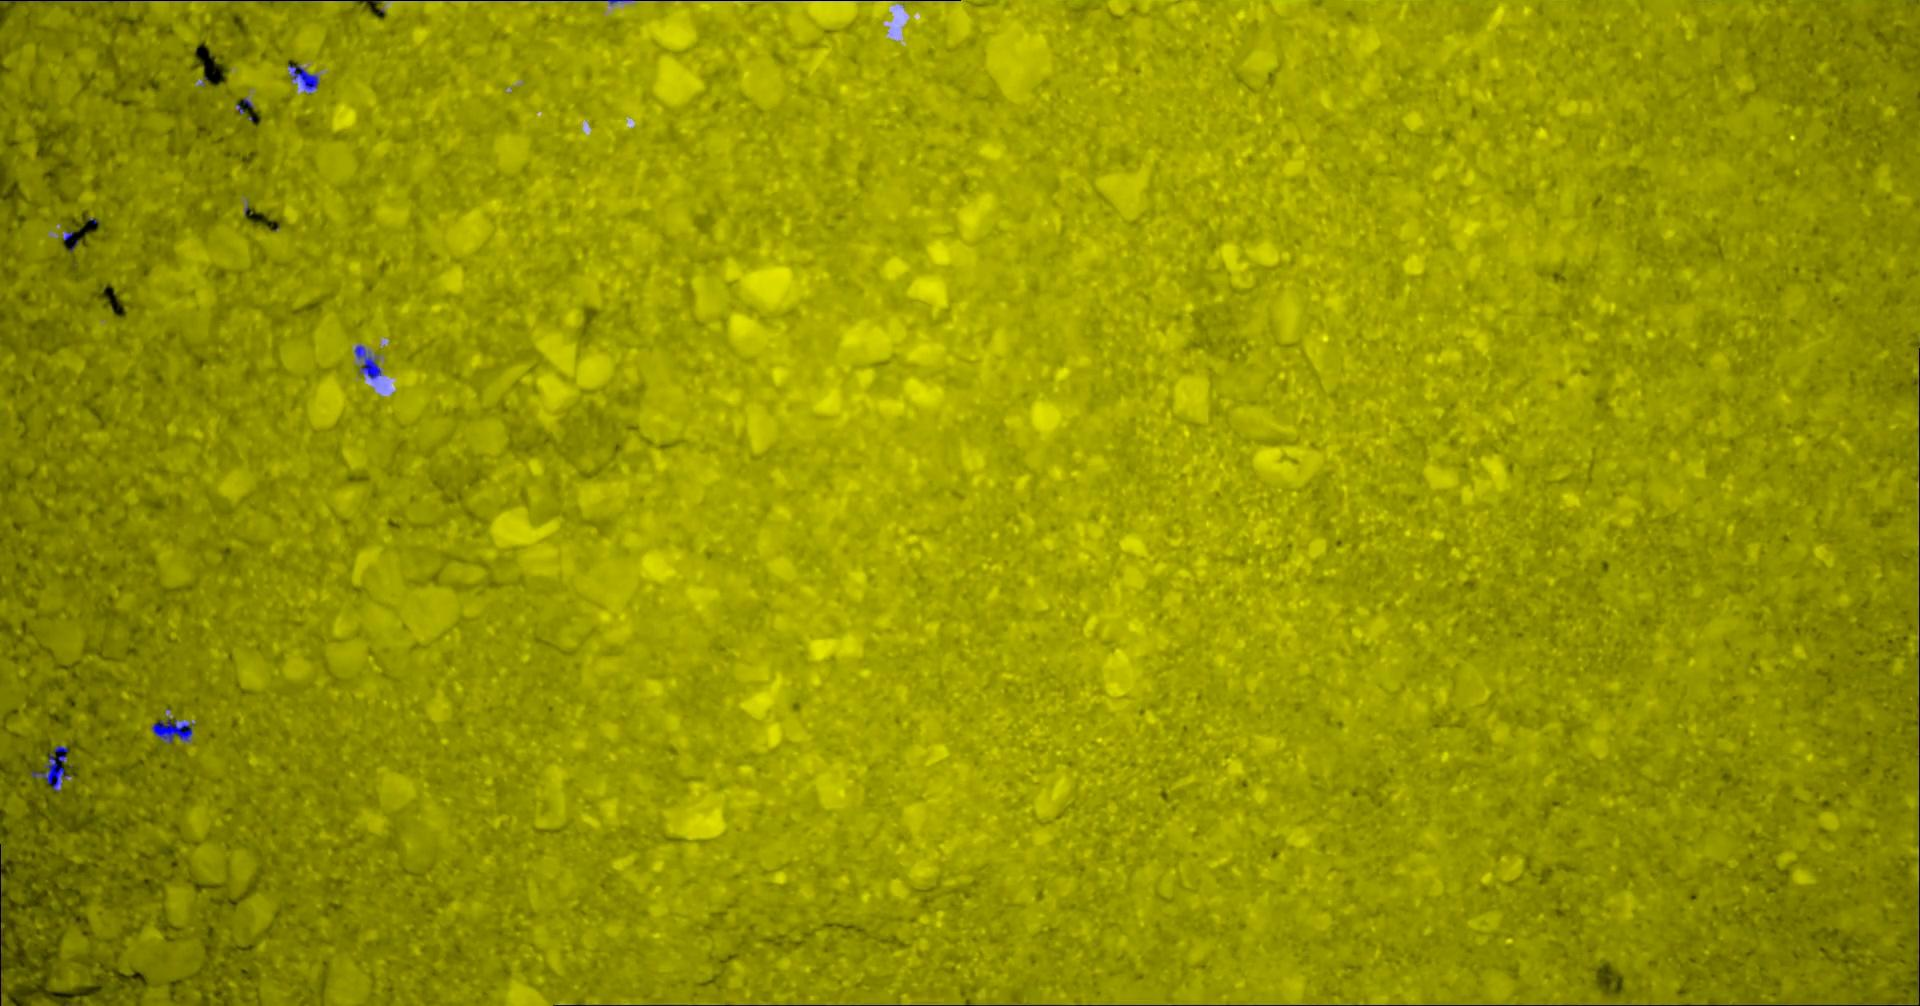ant: (29, 746, 69, 791), (151, 719, 194, 743), (354, 345, 380, 379), (288, 64, 317, 90)
